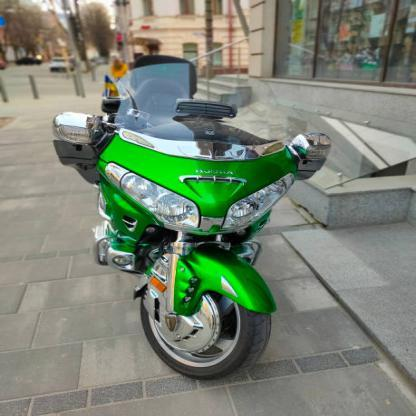Motorcycle: (48, 68, 311, 375)
